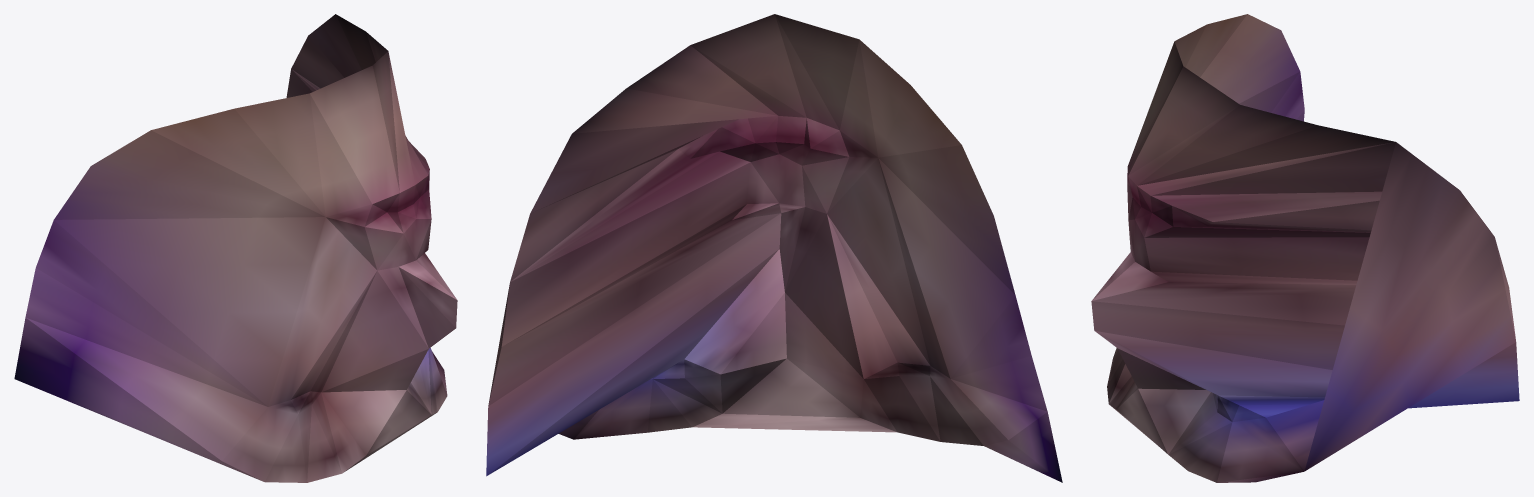
The model's file is fake_12235.obj.
3 renders of one model, left to right at view 1: azimuth 30°, elevation 25°; view 2: azimuth 150°, elevation 25°; view 3: azimuth 270°, elevation 25°, orthographic. The views are drawn at different scales.
Bounding box in the file's own units: 104 × 88 × 91.94.
